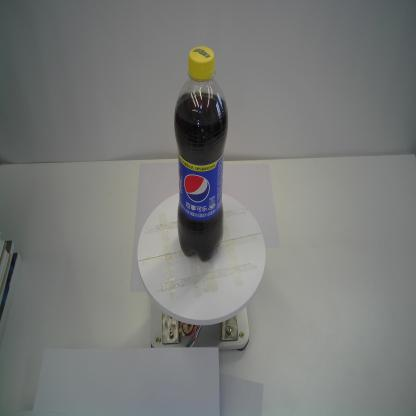Drink: (171, 42, 229, 265)
